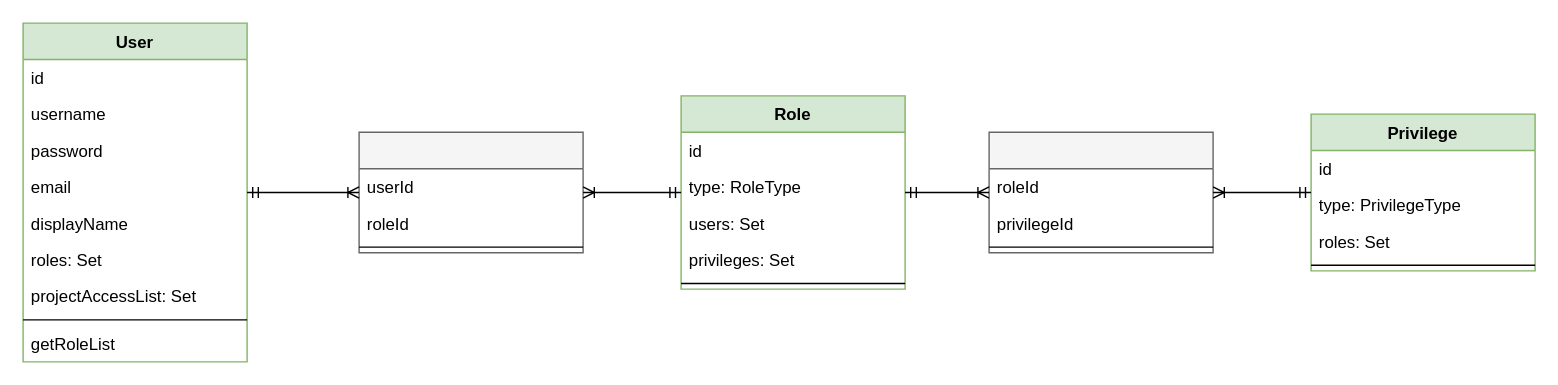
The diagram is 1558 pixels wide and 385 high, and some of its shapes have lost their labels. Here are the shapes that lost their labels. From the top down, the box of each, then its label:
(358, 131, 583, 253): user_roles
(988, 131, 1213, 253): roles_privileges
